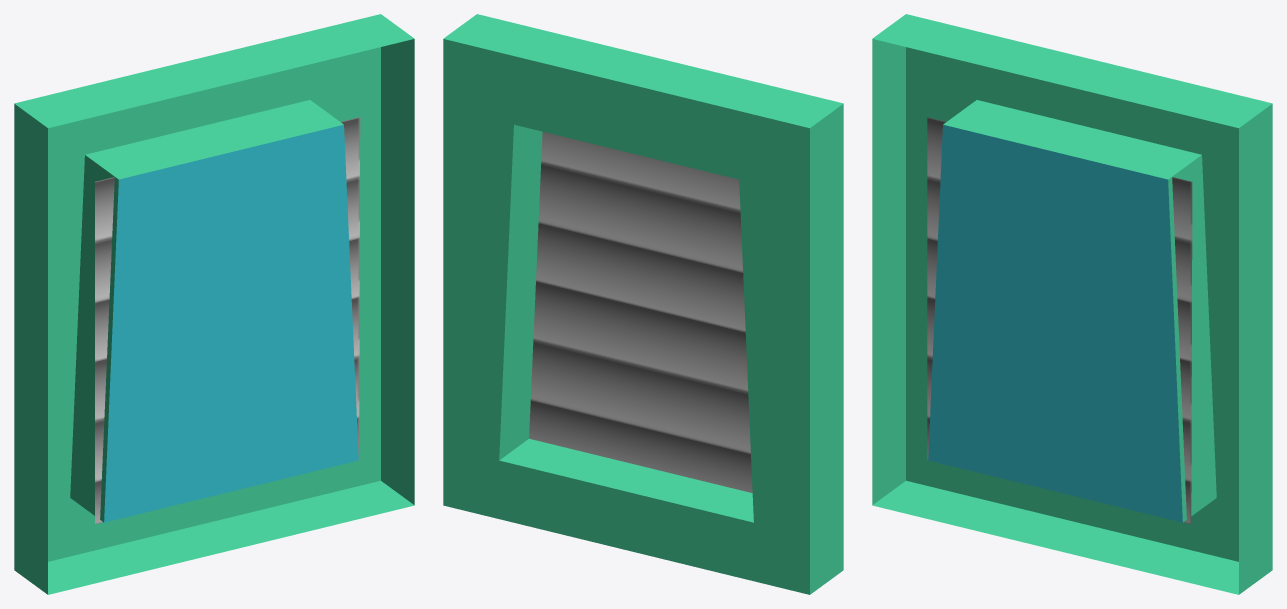
The model's file is WindowSmall.fbx.
3 views of the same model, side by side, from view 1: azimuth 30°, elevation 25°; view 2: azimuth 150°, elevation 25°; view 3: azimuth 330°, elevation 25° (orthographic).
Visible parts, largest first — view 1: WindowSmall, Blind.005; view 2: WindowSmall, Blind.005; view 3: WindowSmall, Blind.005.
Part boxes in pixels (left/top/right/bottom): WindowSmall: left=14, top=14, right=414, bottom=594; Blind.005: left=95, top=117, right=360, bottom=524; WindowSmall: left=443, top=14, right=843, bottom=594; Blind.005: left=529, top=132, right=752, bottom=492; WindowSmall: left=872, top=14, right=1272, bottom=594; Blind.005: left=927, top=117, right=1192, bottom=523.
Bounding box in the file's own units: 93.75 × 114 × 15.
